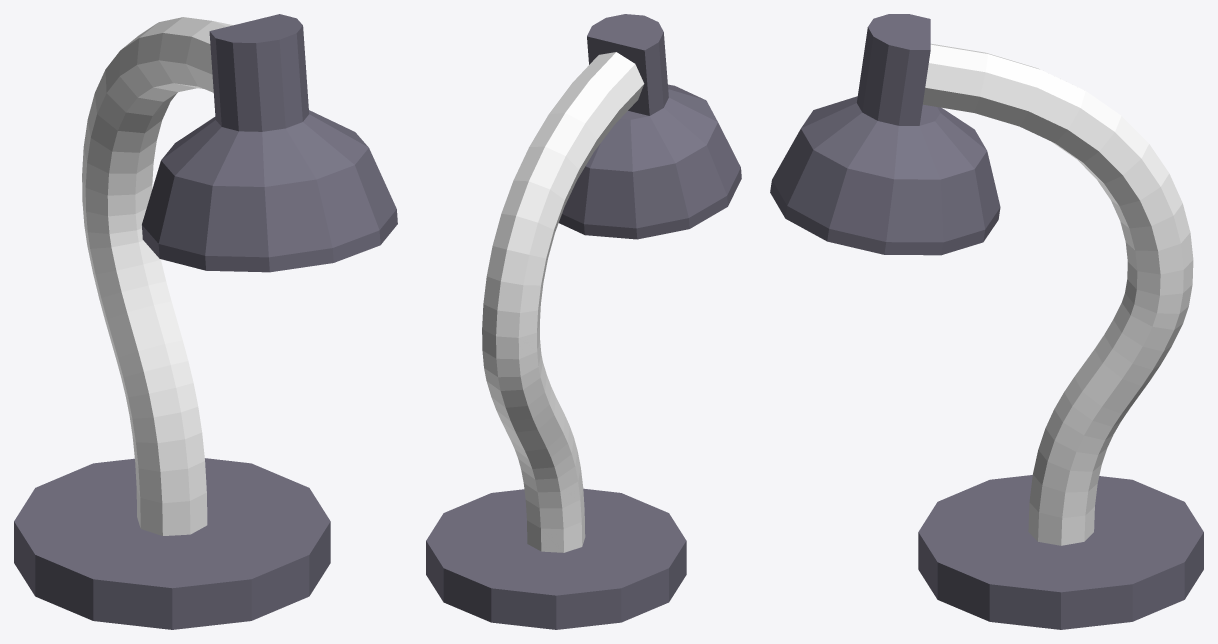
File: Lamp1.fbx
3 views of the same model, side by side, from view 1: azimuth 30°, elevation 25°; view 2: azimuth 150°, elevation 25°; view 3: azimuth 270°, elevation 25° (orthographic). The views are drawn at different scales.
Visible parts, largest first — view 1: Lamp1; view 2: Lamp1; view 3: Lamp1.
Boxes of the visible parts, bbox=[...] form: Lamp1: bbox=[14, 14, 397, 629]; Lamp1: bbox=[426, 14, 741, 629]; Lamp1: bbox=[770, 14, 1203, 629].
Bounding box in the file's own units: 200 × 419 × 304.
